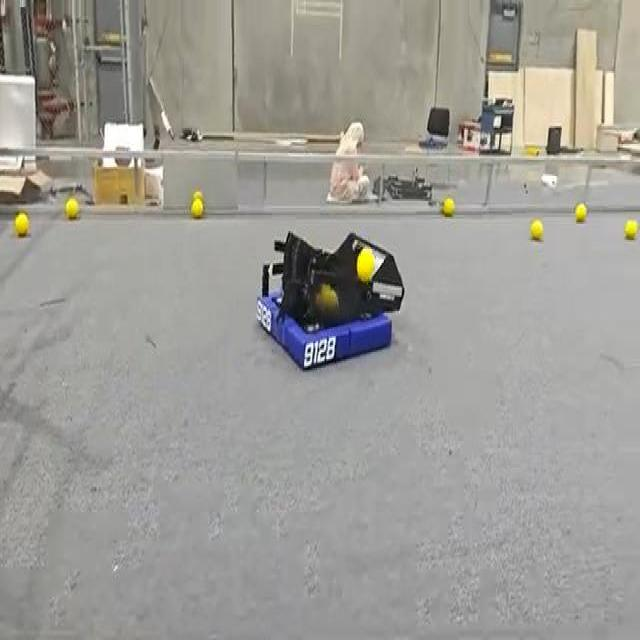Fuel: (356, 247, 374, 281), (14, 212, 29, 236), (65, 197, 79, 219), (530, 219, 543, 240), (442, 197, 455, 217), (190, 197, 203, 217), (191, 198, 203, 218), (625, 219, 637, 238), (443, 198, 455, 216), (575, 203, 586, 222), (576, 203, 586, 223)
